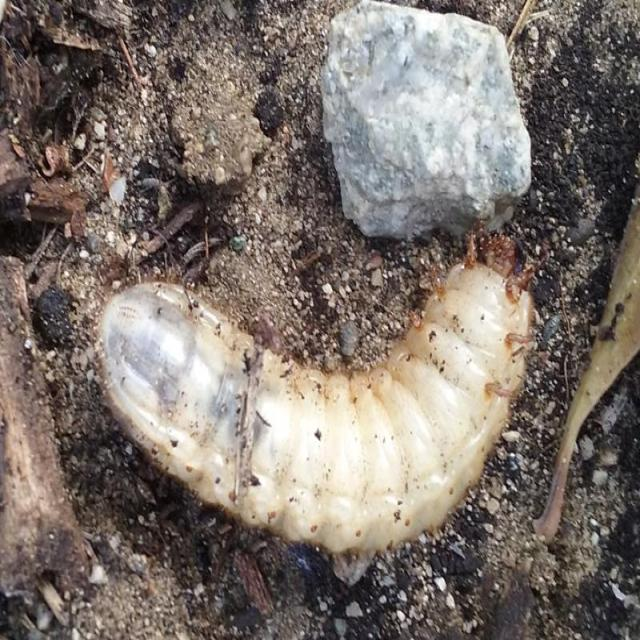Grub-Adult-: (86, 220, 540, 563)
